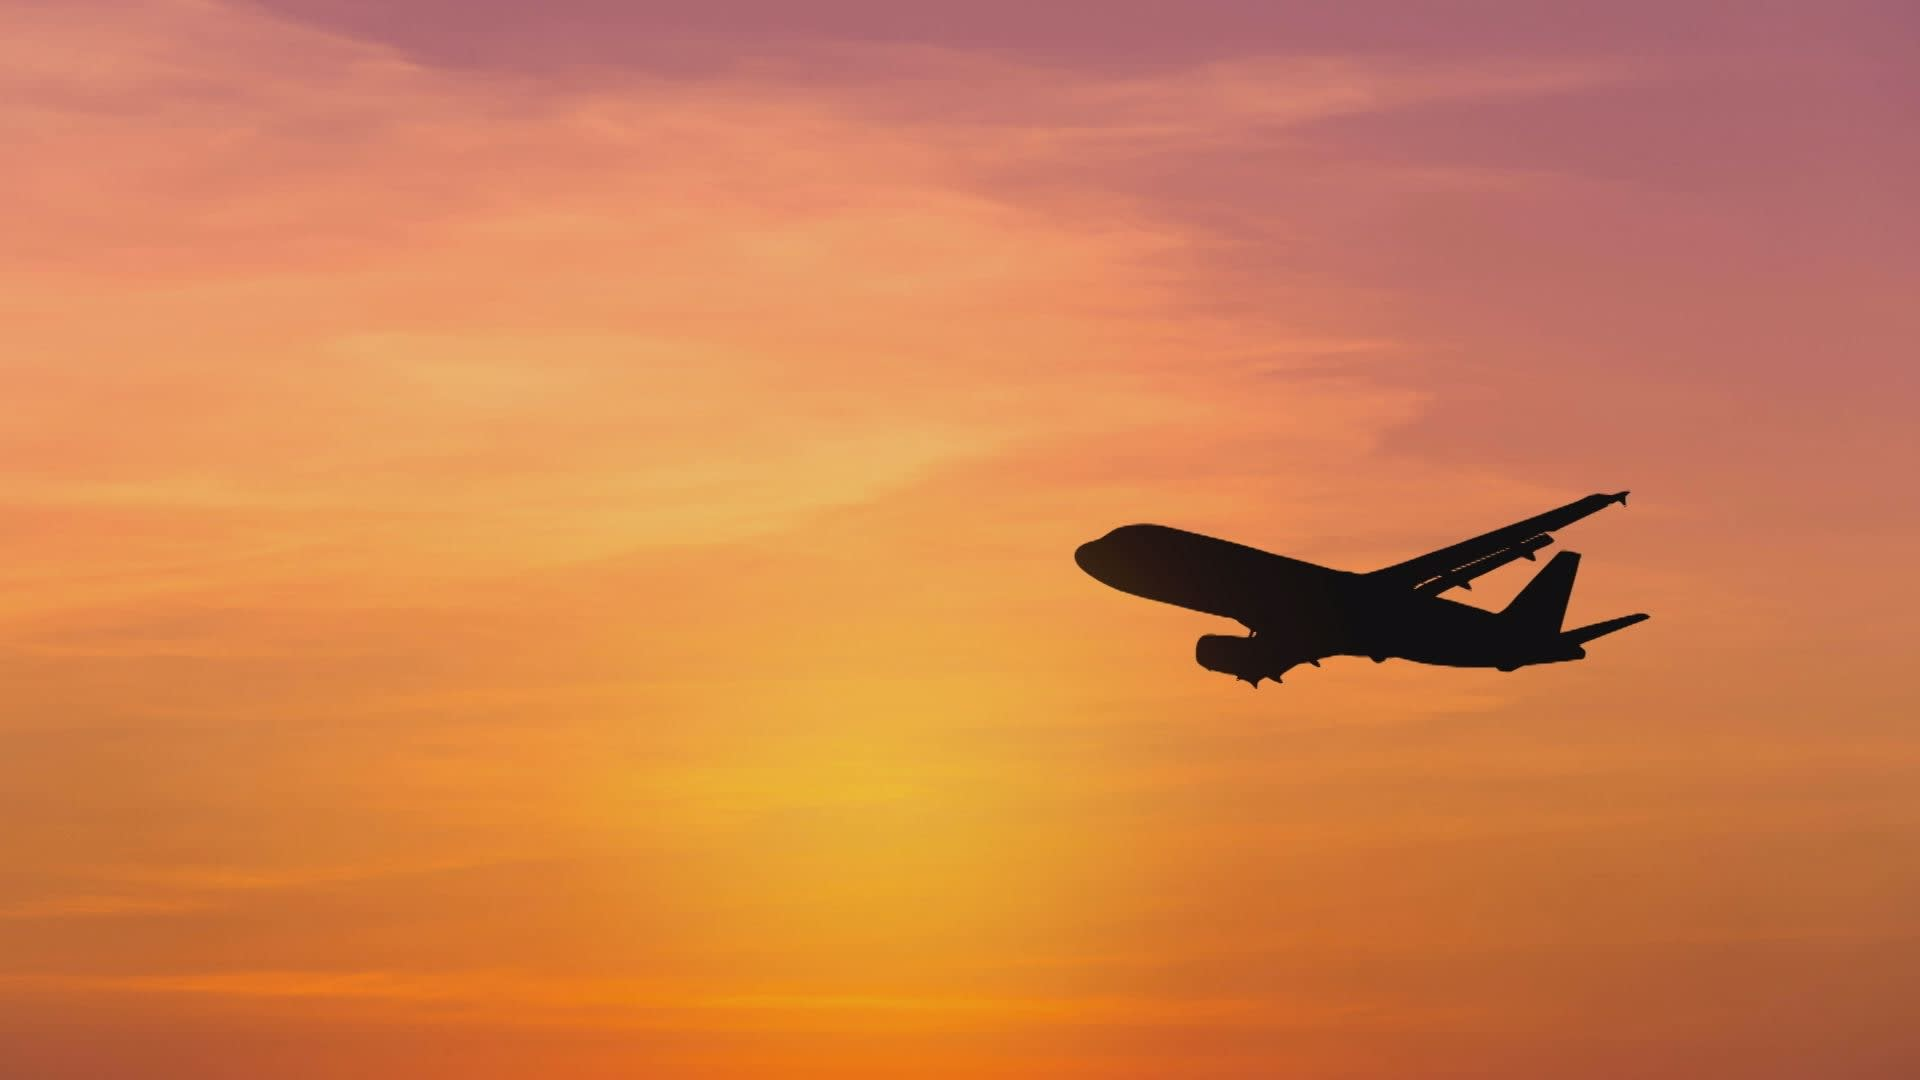plane: (1067, 492, 1665, 687)
